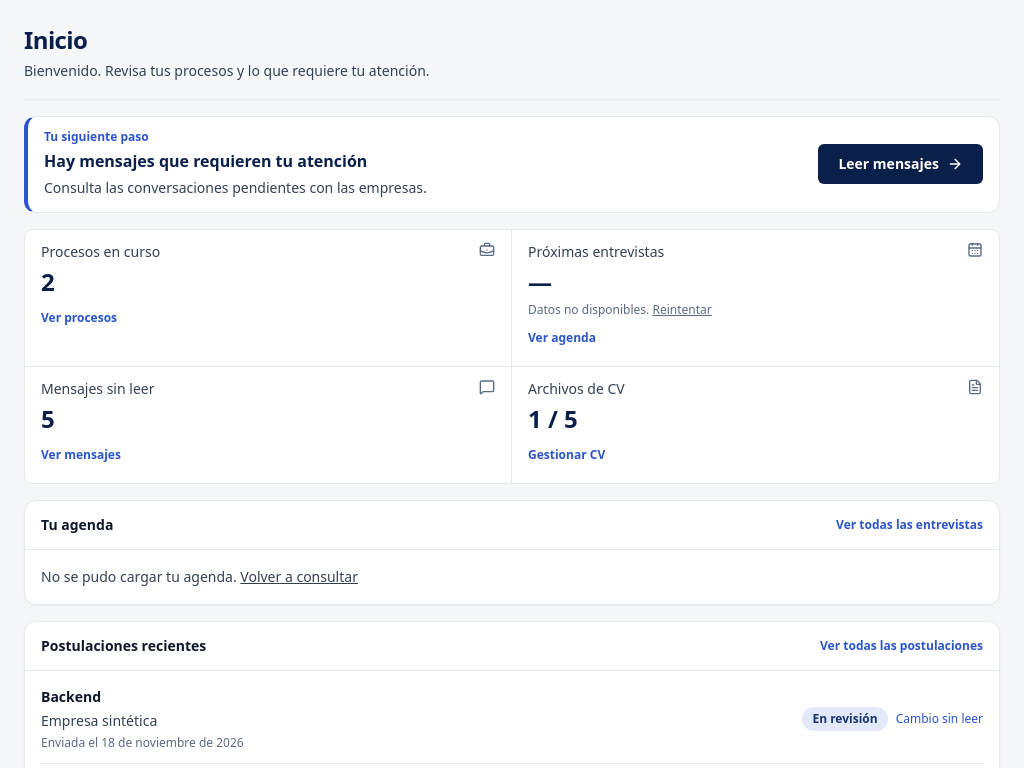
Test: Inicio del candidato › un error de agenda no oculta el resto ni simula cero entrevistas
Expected: the text "—" is shown, [528,264,552,298]
Expected: the text "2" is shown, [41,264,55,298]
Click the button "Reintentar" at point(682, 310), box [652,302,712,318]
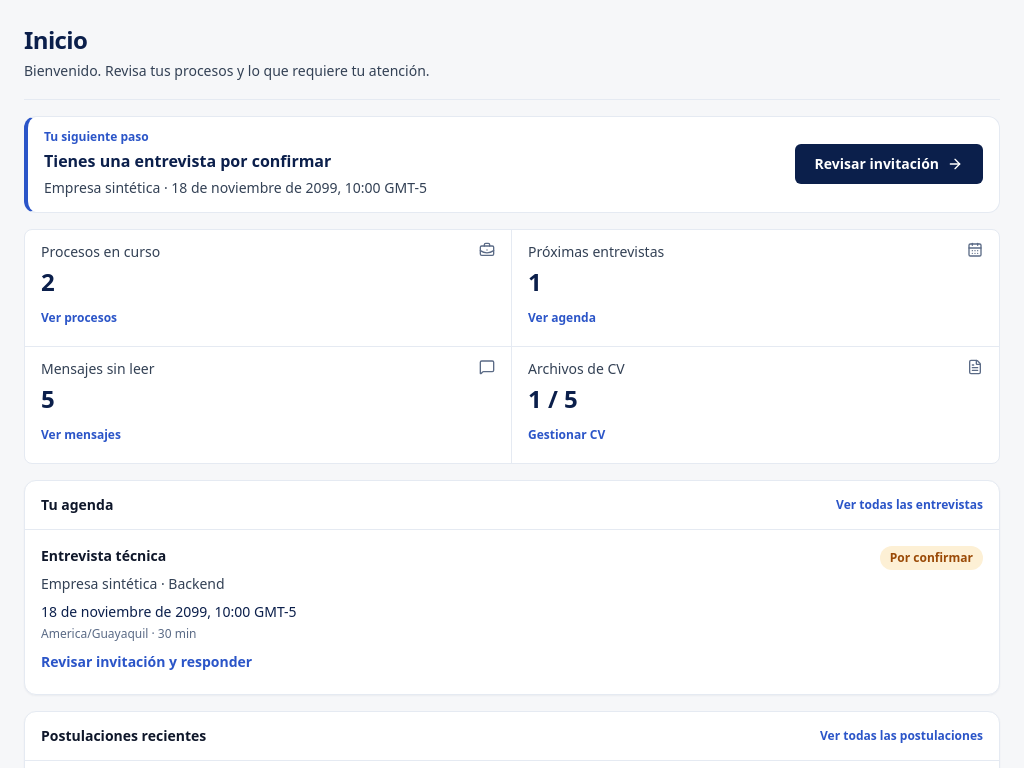
Expected: the text "Entrevista técnica" is shown, [41,546,166,566]
